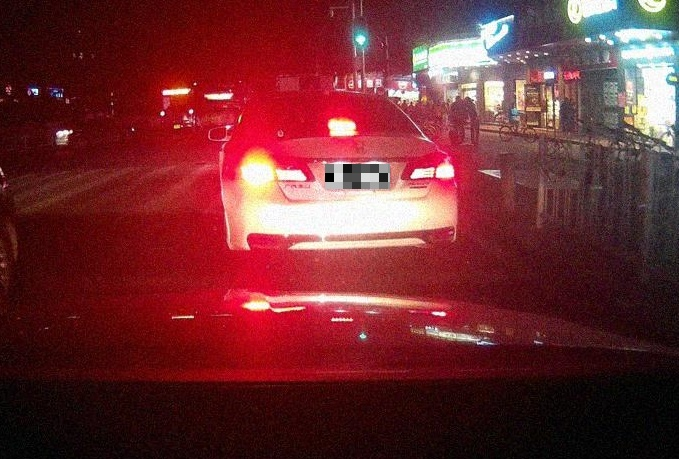L_light: (236, 160, 316, 183)
R_light: (401, 161, 455, 181)
T_light: (328, 120, 358, 133)
night-left: (223, 89, 459, 264)
plate_1: (325, 164, 390, 189)
